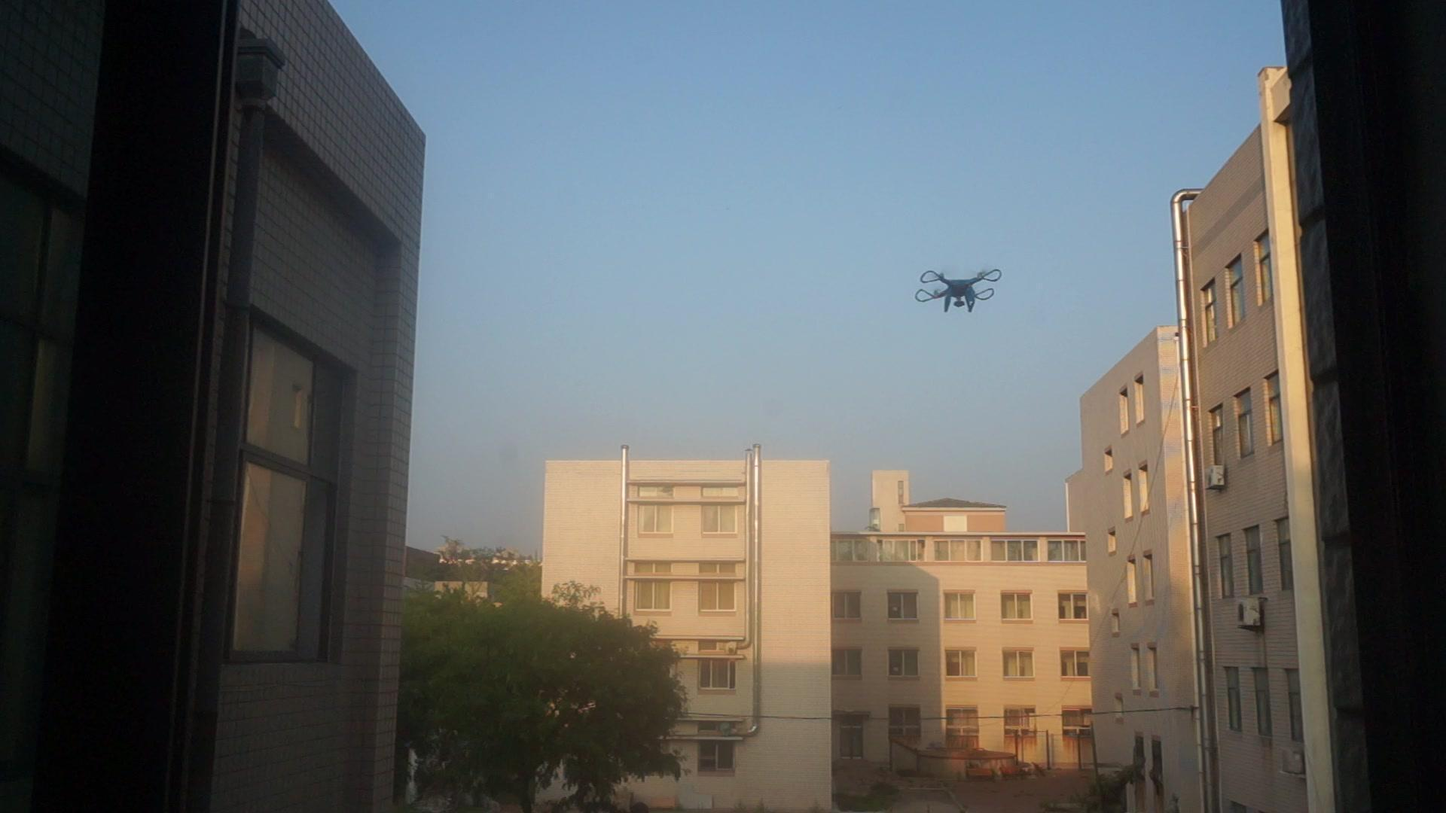UAV: (916, 268, 1003, 314)
